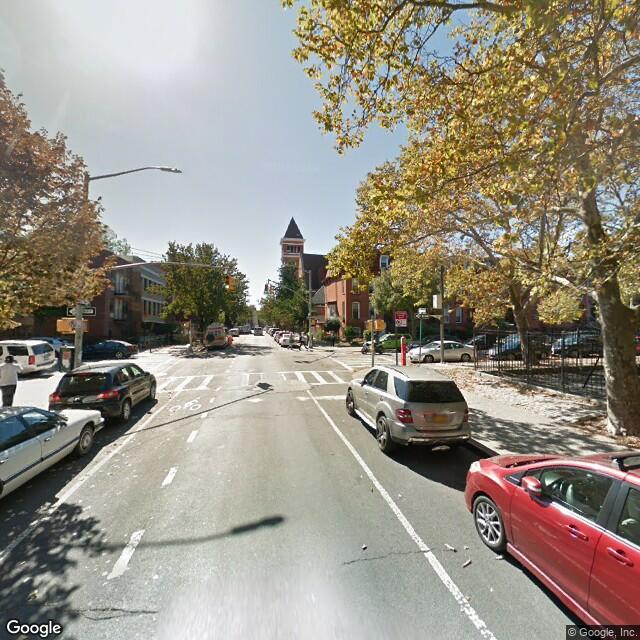litter: (438, 540, 481, 563), (358, 541, 375, 552)
